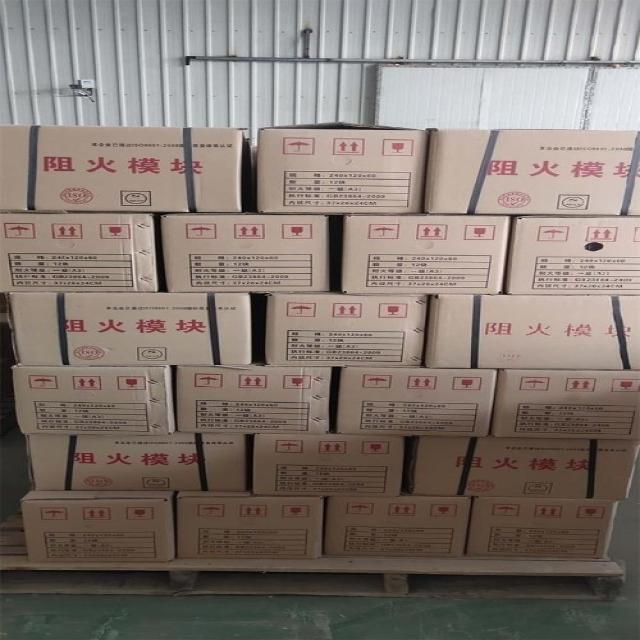box: (0, 125, 250, 212), (422, 129, 640, 215), (4, 293, 252, 366), (257, 121, 429, 215), (425, 296, 640, 370), (408, 437, 640, 500), (339, 215, 511, 296), (161, 213, 330, 293), (26, 433, 246, 492), (0, 211, 159, 292), (265, 293, 428, 368), (334, 367, 497, 437), (12, 366, 174, 435), (20, 491, 175, 562), (489, 369, 640, 440), (506, 215, 640, 295), (177, 366, 332, 435), (174, 492, 325, 559), (252, 434, 406, 497), (466, 497, 620, 559), (323, 496, 472, 557)
